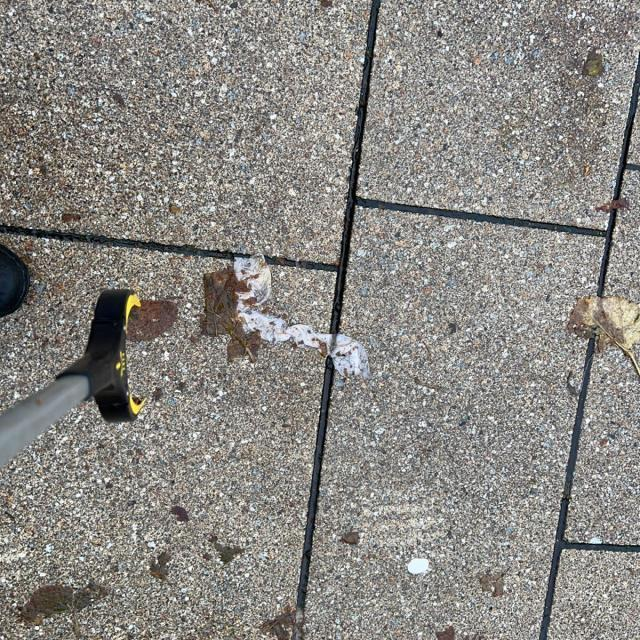Paper: (232, 248, 374, 376)
